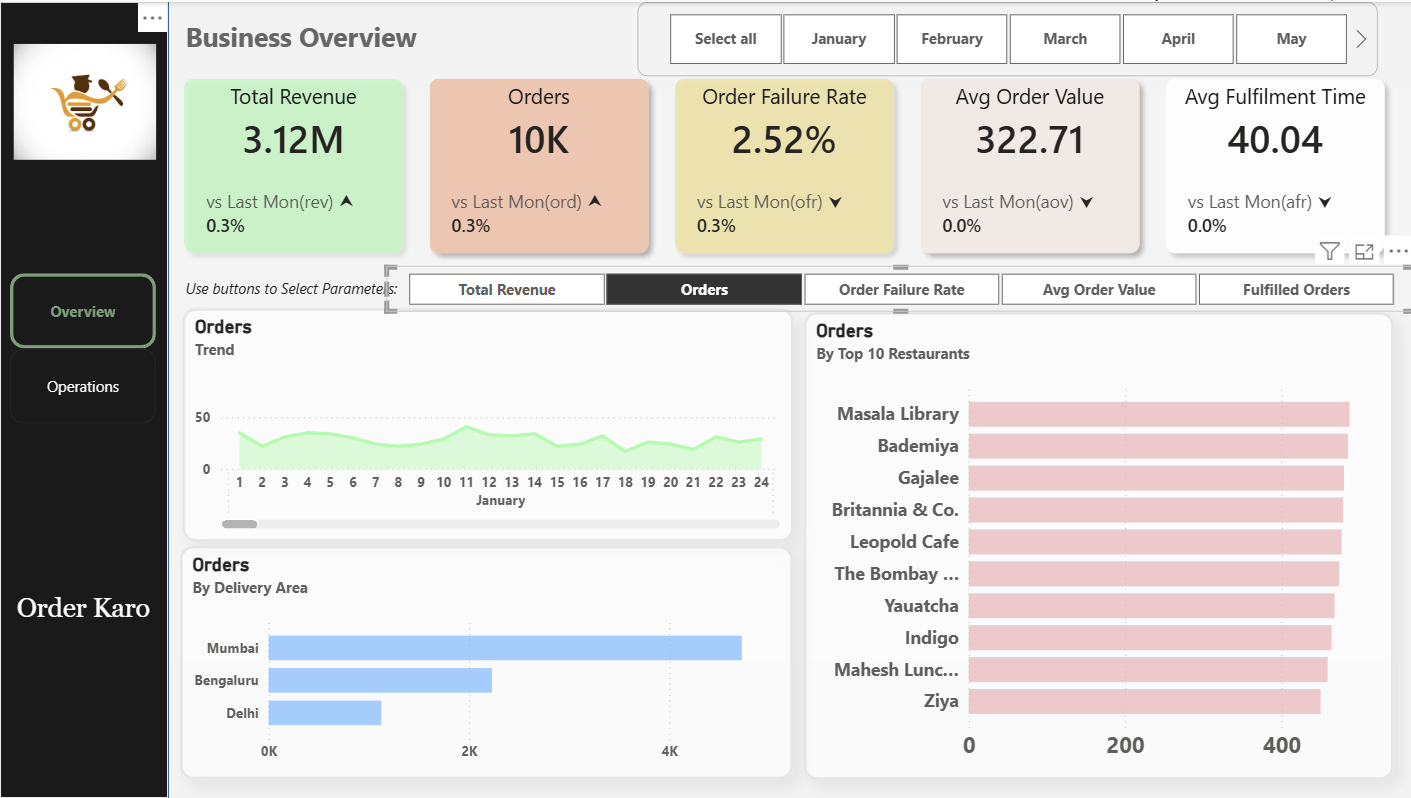

This screenshot's page, from the dashboard's own definition file:
{"tool":"powerbi","page":{"name":"Overview","canvas":[1280,720],"ordinal":0},"visuals":[{"type":"shape","box":[0,0,152.6,720.2],"z":0,"group":"g1"},{"type":"group","id":"g1","title":"Group 1","box":[0,0,152.6,720.2],"z":0},{"type":"cardVisual","fields":{"Data":["fooddelivery orders.Total Revenue","fooddelivery orders.Total Orders","fooddelivery orders.Order Failure Rate","fooddelivery orders.Avg Order Value","fooddelivery deliveries.Avg Fulfilment Time"]},"box":[142.5,45.2,1137.4,206.9],"z":1000},{"type":"lineChart","fields":{"Category":["DateTable.Date.Variation.Date Hierarchy.Month","DateTable.Date.Variation.Date Hierarchy.Day"],"Y":["fooddelivery orders.Total Revenue"]},"box":[164.7,277.2,553,211.5],"z":2000},{"type":"slicer","fields":{"Values":["Parameters:.Parameters:"]},"box":[349.4,238.6,930.5,41.8],"z":3000},{"type":"barChart","fields":{"Category":["fooddelivery restaurants.restaurant_name"],"Y":["fooddelivery orders.Total Revenue"]},"box":[727,280.4,533.7,422.9],"z":4000},{"type":"barChart","fields":{"Category":["fooddelivery restaurants.city"],"Y":["fooddelivery orders.Total Revenue"]},"box":[162.8,491.8,554,211.4],"z":5000},{"type":"textbox","box":[162.8,245.4,211.4,28.3],"z":6000},{"type":"textbox","box":[162.7,10.3,231.8,49.7],"z":7000},{"type":"image","box":[12.4,20.4,128.9,140.2],"z":8000},{"type":"pageNavigator","box":[9,245.4,132.3,137.9],"z":8000,"group":"g1"},{"type":"textbox","box":[10.2,529.1,152.6,99.5],"z":9000},{"type":"slicer","fields":{"Values":["DateTable.Date.Variation.Date Hierarchy.Month"]},"box":[577.1,0,669.5,66.9],"z":9001}]}

Visuals, with their boxes on the page's 1280x720 design canvas (x1, y1, x2, y2). These are canvas units, not pixel positions in the 1411x798 screenshot, which may show the page scaled, cropped or inside an application window:
shape: <box>0,0,153,720</box>
"Group 1" group: <box>0,0,153,720</box>
cardVisual - fooddelivery orders.Total Revenue x fooddelivery orders.Total Orders: <box>142,45,1280,252</box>
lineChart - DateTable.Date.Variation.Date Hierarchy.Month x DateTable.Date.Variation.Date Hierarchy.Day: <box>165,277,718,489</box>
slicer - Parameters:.Parameters:: <box>349,239,1280,280</box>
barChart - fooddelivery restaurants.restaurant_name x fooddelivery orders.Total Revenue: <box>727,280,1261,703</box>
barChart - fooddelivery restaurants.city x fooddelivery orders.Total Revenue: <box>163,492,717,703</box>
textbox: <box>163,245,374,274</box>
textbox: <box>163,10,394,60</box>
image: <box>12,20,141,161</box>
pageNavigator: <box>9,245,141,383</box>
textbox: <box>10,529,163,629</box>
slicer - DateTable.Date.Variation.Date Hierarchy.Month: <box>577,0,1247,67</box>
